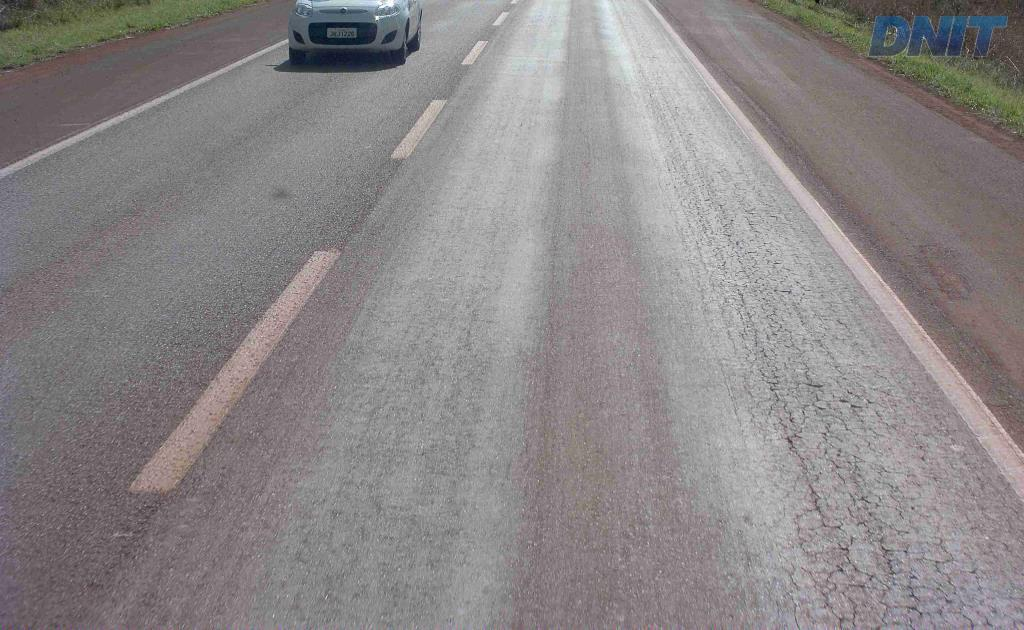crack: (784, 436, 844, 540), (847, 507, 906, 585), (801, 546, 862, 594)
